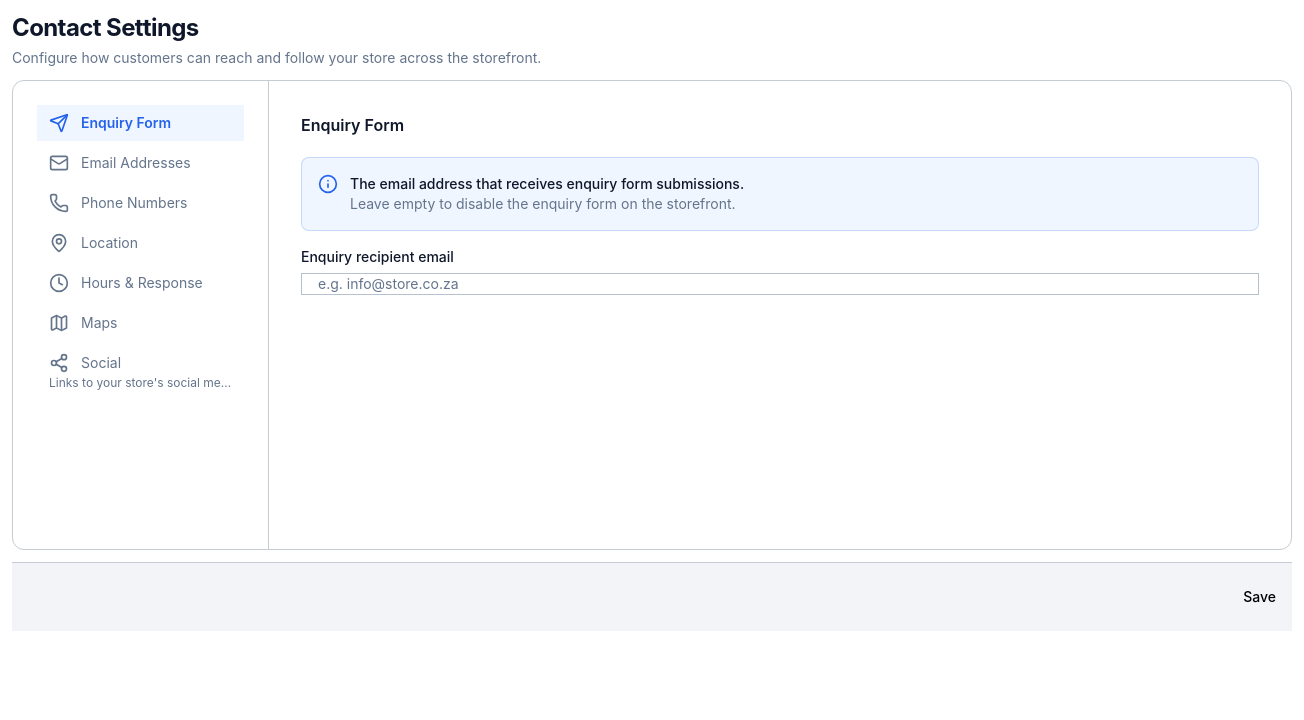
Test: ContactEditorPage › Maps preview › shows a placeholder instead of a preview when the embed URL is empty
This screenshot has width=1304, height=720.
Expected: the heading "Contact Settings" is shown, 12,13 -> 199,42
Click the tab "Maps" at (140, 323), box 37,305 -> 244,341
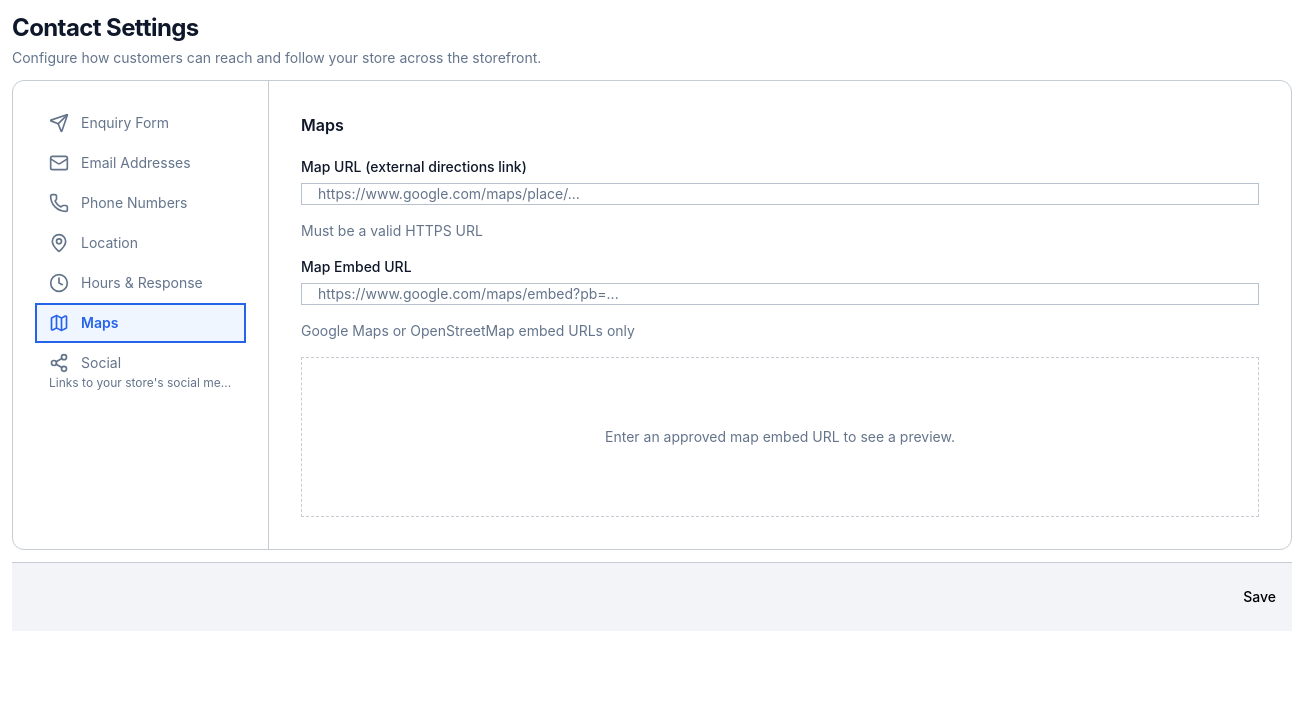
Expected: the text "Enter an approved map embed URL to see a preview." is shown, 301,357 -> 1259,517
